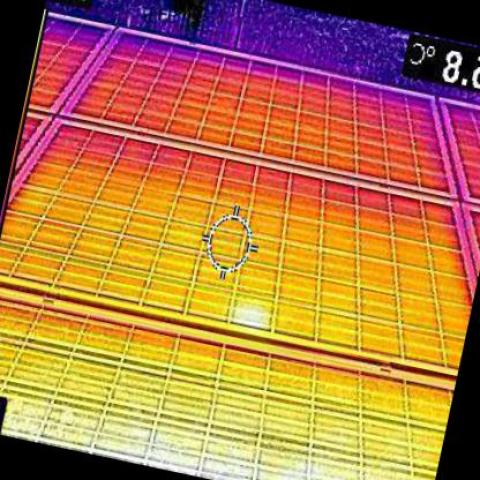fault: (231, 296, 269, 327)
